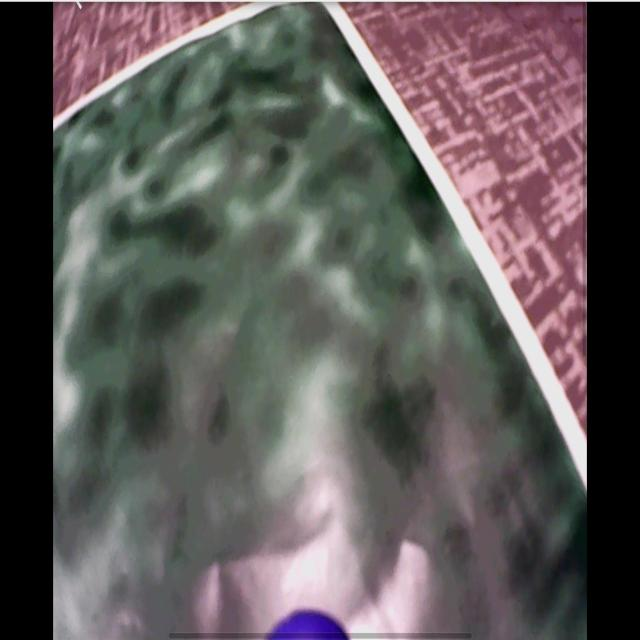ball: (270, 609, 350, 640)
